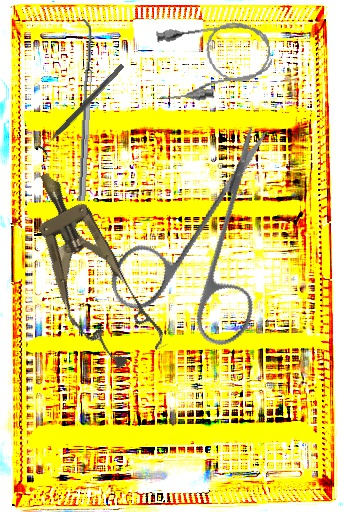Cannula: (149, 14, 277, 107)
Fixation Ring: (33, 58, 130, 161)
Iris Scissors: (76, 121, 330, 376)
Spatula Surgical: (71, 18, 95, 202)
Speculum: (7, 156, 172, 379)
